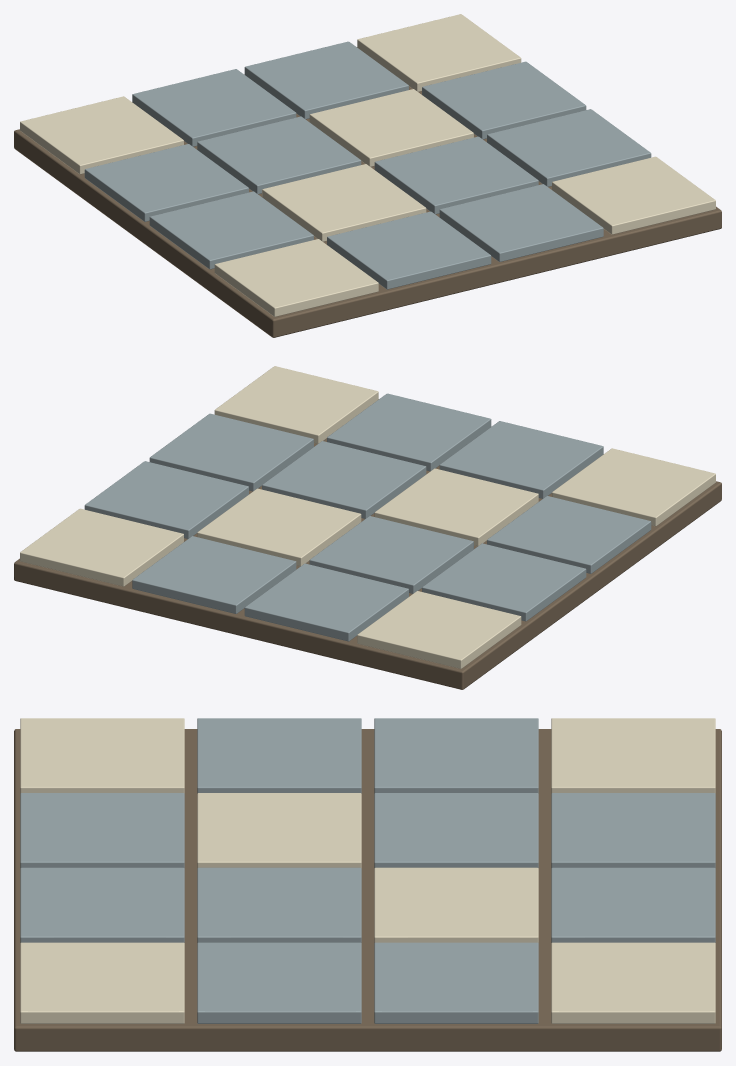
The model's file is lane-tile.glb.
The picture shows the model from 3 angles, top to bottom: view 1: azimuth 30°, elevation 25°; view 2: azimuth 150°, elevation 25°; view 3: azimuth 270°, elevation 25°; orthographic projection. The views are drawn at different scales.
Visible parts, largest first — view 1: lane-tile; view 2: lane-tile; view 3: lane-tile.
Part boxes in pixels (bbox=[...]): lane-tile: bbox=[14, 14, 721, 337]; lane-tile: bbox=[14, 366, 721, 689]; lane-tile: bbox=[14, 718, 721, 1051].
Bounding box in the file's own units: 4 × 0.2401 × 4.
